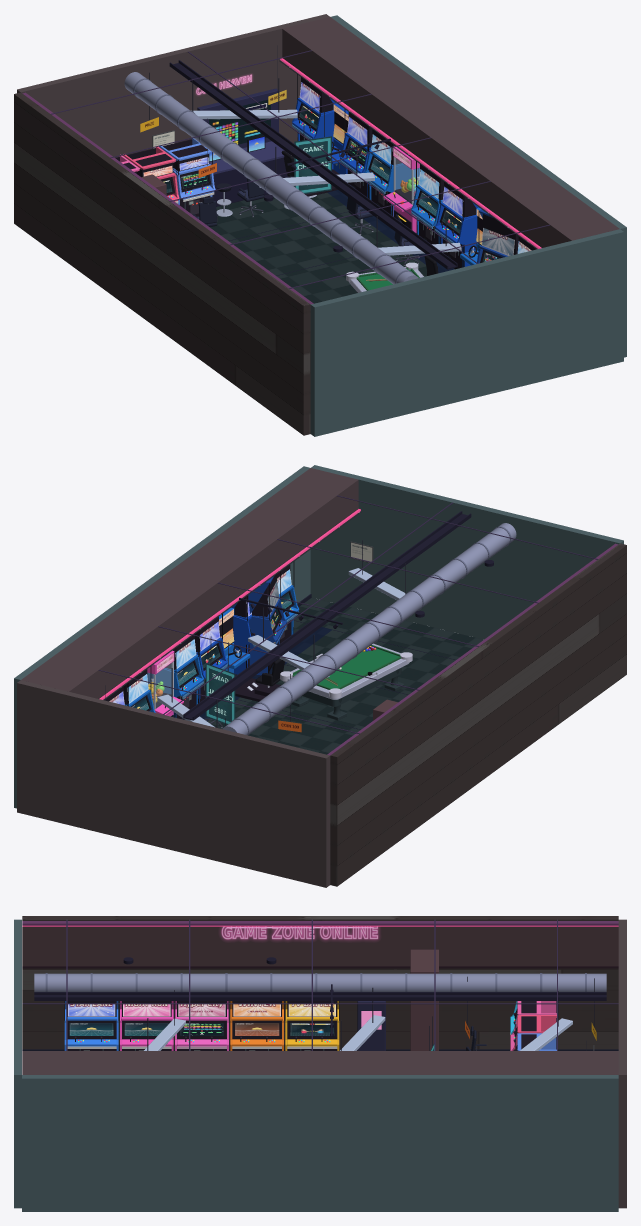
File: game-room-1-night.glb
3 renders of one model, top to bottom at view 1: azimuth 30°, elevation 25°; view 2: azimuth 150°, elevation 25°; view 3: azimuth 270°, elevation 25°, orthographic. The views are drawn at different scales.
Visible parts, largest first — view 1: object 35, object 34, object 40, object 36, object 31, object 186, object 192, object 188, object 98, object 41, object 53, object 93 (+18 smaller); view 2: object 36, object 34, object 35, object 40, object 31, object 186, object 188, object 41, object 192, object 93, object 53, object 156 (+10 smaller); view 3: object 35, object 37, object 34, object 40, object 186, object 188, object 45, object 192, spot:rig-seven, object 36, object 41, object 50 (+21 smaller).
Boxes of the visible parts, box(x1,y1,x2,y2) form: object 35: box(310, 15, 626, 436); object 34: box(14, 92, 310, 435); object 40: box(282, 17, 619, 247); object 36: box(17, 14, 329, 157); object 31: box(209, 157, 453, 303); object 186: box(124, 72, 418, 284); object 192: box(115, 77, 536, 268); object 188: box(169, 60, 457, 269); object 98: box(292, 97, 478, 266); object 41: box(51, 50, 549, 288); object 53: box(191, 109, 461, 255); object 93: box(364, 150, 481, 265); object 36: box(17, 680, 330, 887); object 34: box(330, 543, 626, 886); object 35: box(14, 465, 623, 808); object 40: box(21, 468, 358, 698); object 31: box(200, 598, 483, 754); object 186: box(222, 523, 516, 734); object 188: box(183, 511, 493, 720); object 41: box(98, 495, 598, 734); object 192: box(105, 564, 291, 718); object 93: box(124, 585, 299, 717); object 53: box(157, 568, 405, 727); object 156: box(293, 648, 399, 689); object 35: box(14, 919, 618, 1211); object 37: box(22, 926, 618, 965); object 34: box(22, 916, 618, 1049); object 40: box(22, 1051, 618, 1074); object 186: box(34, 973, 606, 991); object 188: box(34, 957, 606, 1037); object 45: box(22, 921, 618, 925); object 192: box(67, 1001, 556, 1050); spot:rig-seven: box(285, 1001, 339, 1050); object 36: box(618, 919, 626, 1208); object 41: box(22, 919, 618, 1050); object 50: box(410, 949, 438, 1050).
Bounding box in the file's own units: 9.4 × 3.6 × 15.
Materials: 199 (73 with a texture image).
